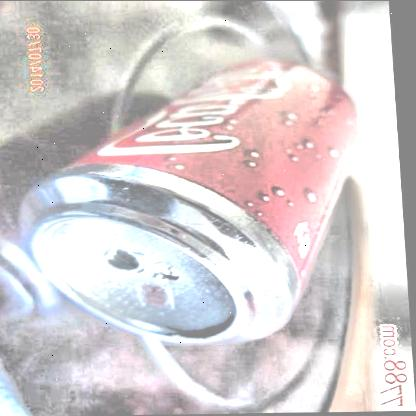Can: (11, 49, 385, 352)
